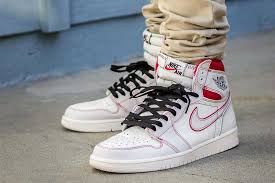Jordan 1: (88, 52, 240, 175)
